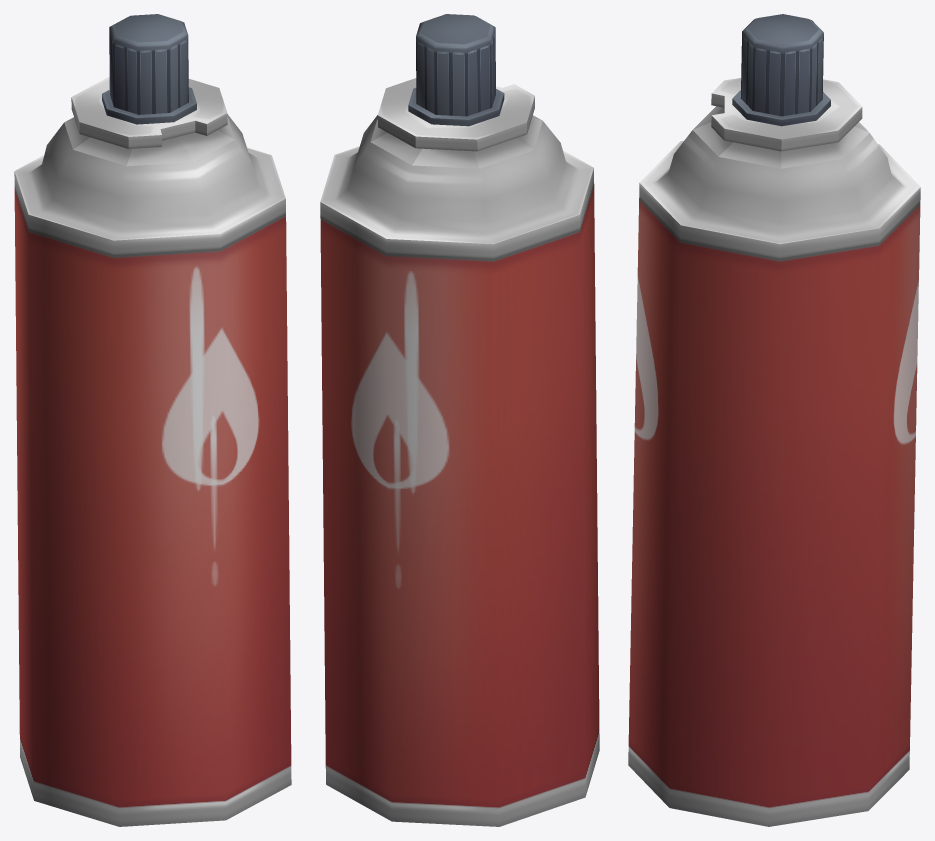
The model's file is mesh_Prop_ButaneGas1.fbx.
The picture shows the model from 3 angles, left to right: view 1: azimuth 30°, elevation 25°; view 2: azimuth 150°, elevation 25°; view 3: azimuth 270°, elevation 25°; orthographic projection.
Parts seen in each view (by area): view 1: Prop_ButaneGas; view 2: Prop_ButaneGas; view 3: Prop_ButaneGas.
Boxes of the visible parts, box(x1,y1,x2,y2) form: Prop_ButaneGas: box(14, 14, 291, 826); Prop_ButaneGas: box(320, 14, 599, 826); Prop_ButaneGas: box(628, 14, 920, 826).
Bounding box in the file's own units: 8.93 × 9.28 × 25.95.
